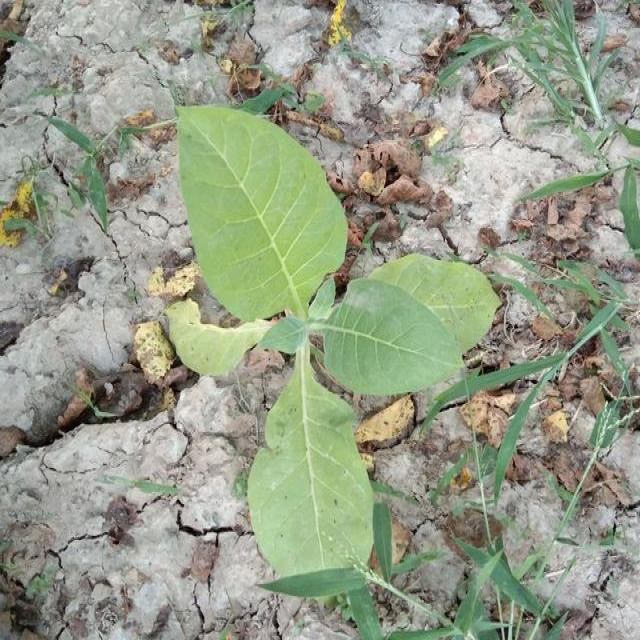crop: (172, 108, 494, 579)
